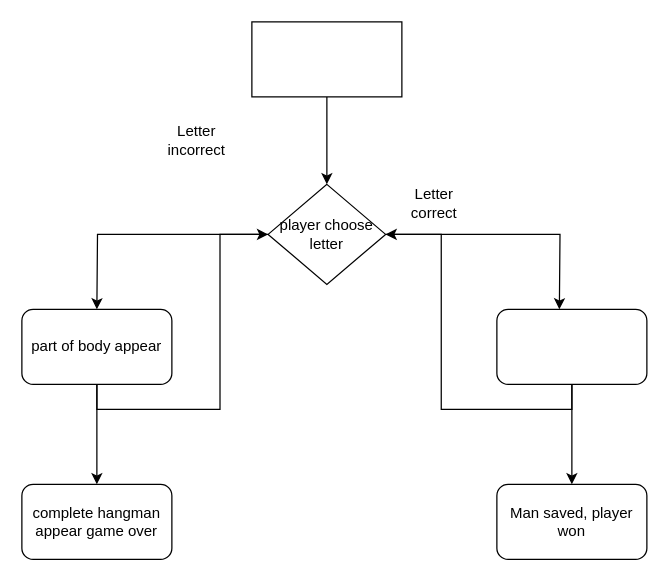
The diagram is 669 pixels wide and 581 high, and some of its shapes have lost their labels. The centre of each missing label's shape, as x and y in pixels:
"Game start (random word with all letters hidden)" goes at [326,59].
"letter appear" goes at [571,346].
